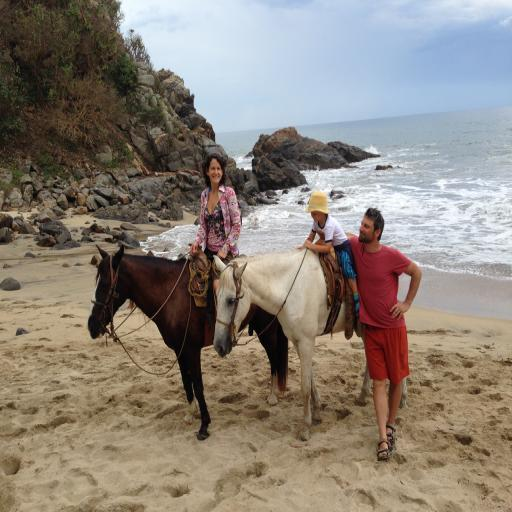horse: (87, 245, 289, 443), (213, 252, 408, 442)
